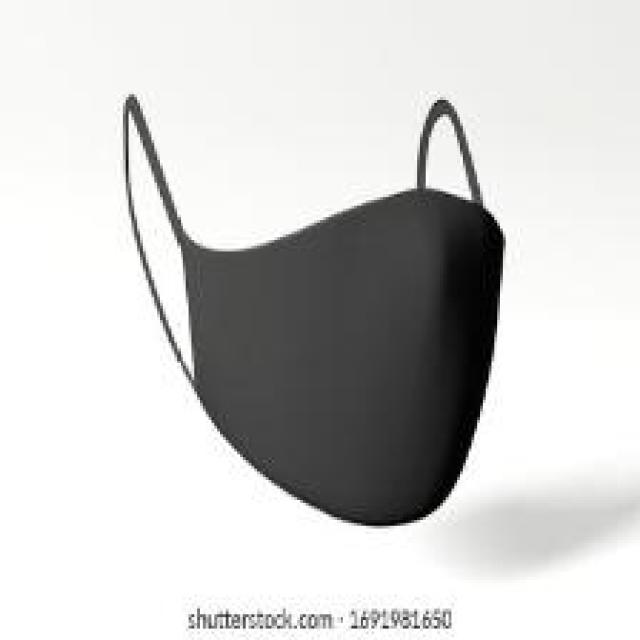Mask: (106, 85, 533, 533)
